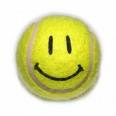tennis ball: (16, 14, 101, 101)
